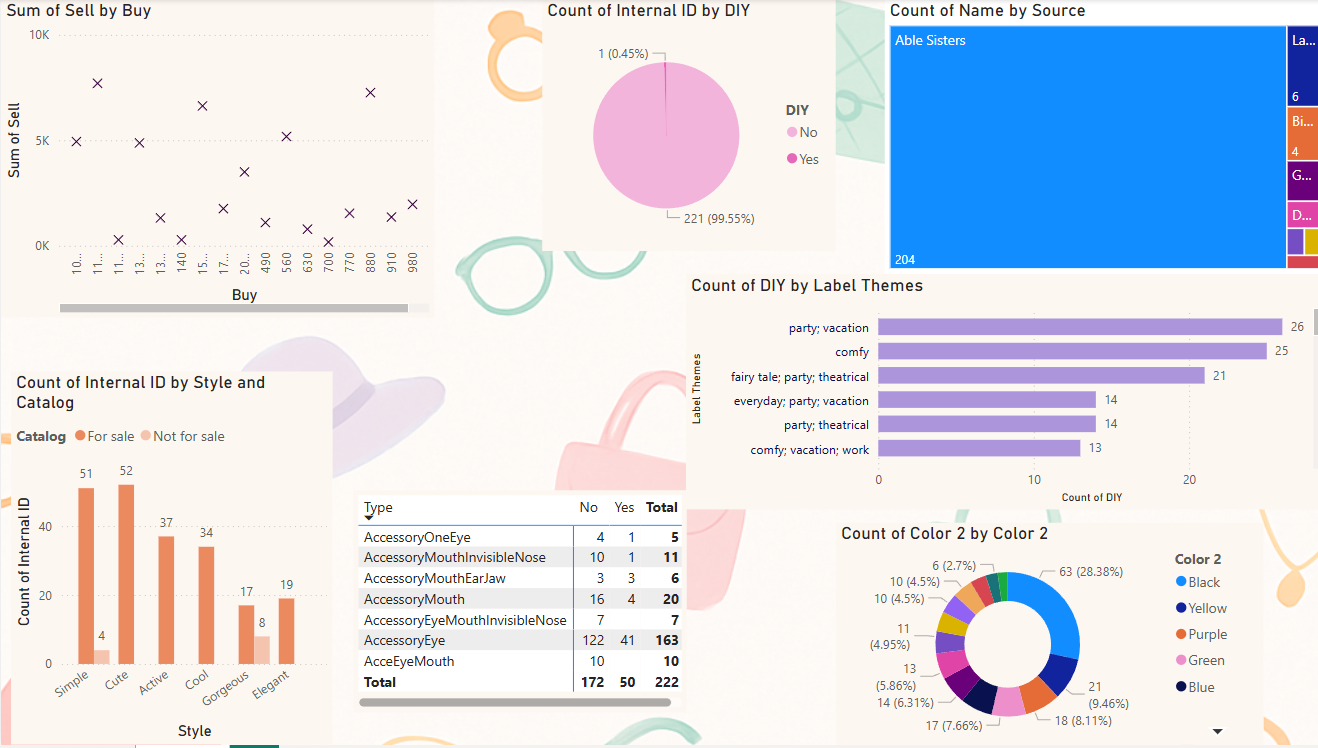

This screenshot's page, from the dashboard's own definition file:
{"tool":"powerbi","page":{"name":"Page 1","canvas":[1280,720],"ordinal":0},"visuals":[{"type":"pieChart","fields":{"Category":["data (2).DIY"],"Y":["data (2).Internal ID"]},"box":[522.9,0,282.9,242.9],"z":0},{"type":"pivotTable","fields":{"Rows":["data (2).Type"],"Columns":["data (2).Mannequin Piece"],"Values":["data (2).Internal ID"]},"box":[340,474.3,321.4,214.3],"z":1000},{"type":"clusteredColumnChart","fields":{"Category":["data (2).Style"],"Y":["data (2).Internal ID"],"Series":["data (2).Catalog"]},"box":[10,360,310,360],"z":2000},{"type":"treemap","fields":{"Values":["data (2).Name"],"Group":["data (2).Source"]},"box":[852.9,0,427.1,265.7],"z":3000},{"type":"donutChart","fields":{"Y":["data (2).Color 2"],"Category":["data (2).Color 2"]},"box":[805.7,505.7,412.9,214.3],"z":4000},{"type":"scatterChart","fields":{"X":["data (2).Buy"],"Y":["data (2).Sell"]},"box":[0,0,418.6,307.1],"z":5000},{"type":"clusteredBarChart","fields":{"Category":["data (2).Label Themes"],"Y":["data (2).DIY"]},"box":[661.4,265.7,618.6,227.1],"z":6000}]}

Visuals, with their boxes in screenshot pixels (x1, y1, x2, y2), scaled from the page's 1280x720 canvas onto the 1318x748 screenshot:
pieChart - data (2).DIY x data (2).Internal ID: region(538, 0, 830, 252)
pivotTable - data (2).Type x data (2).Mannequin Piece: region(350, 493, 681, 715)
clusteredColumnChart - data (2).Style x data (2).Internal ID: region(10, 374, 330, 747)
treemap - data (2).Name x data (2).Source: region(878, 0, 1317, 276)
donutChart - data (2).Color 2 x data (2).Color 2: region(830, 525, 1255, 747)
scatterChart - data (2).Buy x data (2).Sell: region(0, 0, 431, 319)
clusteredBarChart - data (2).Label Themes x data (2).DIY: region(681, 276, 1317, 512)
